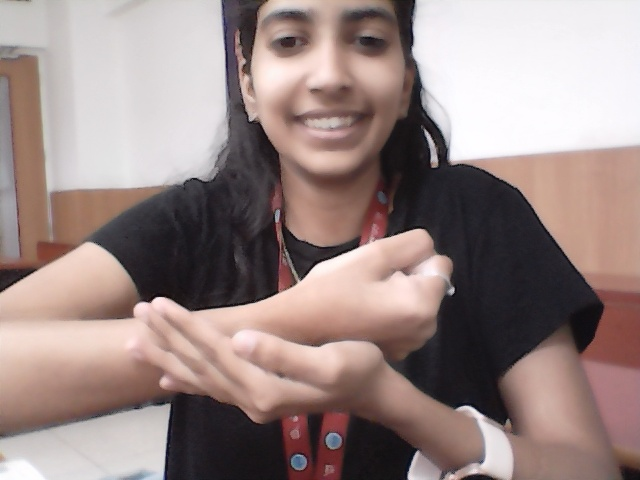Baby: (118, 221, 491, 444)
